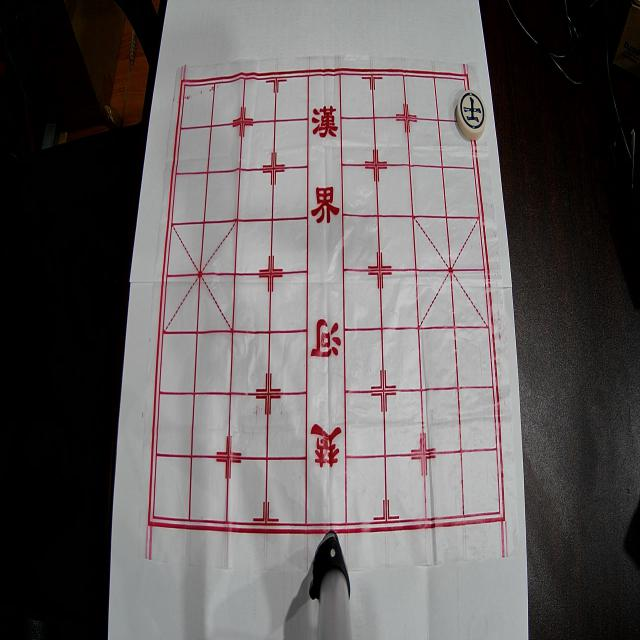black-guard: (456, 90, 487, 140)
